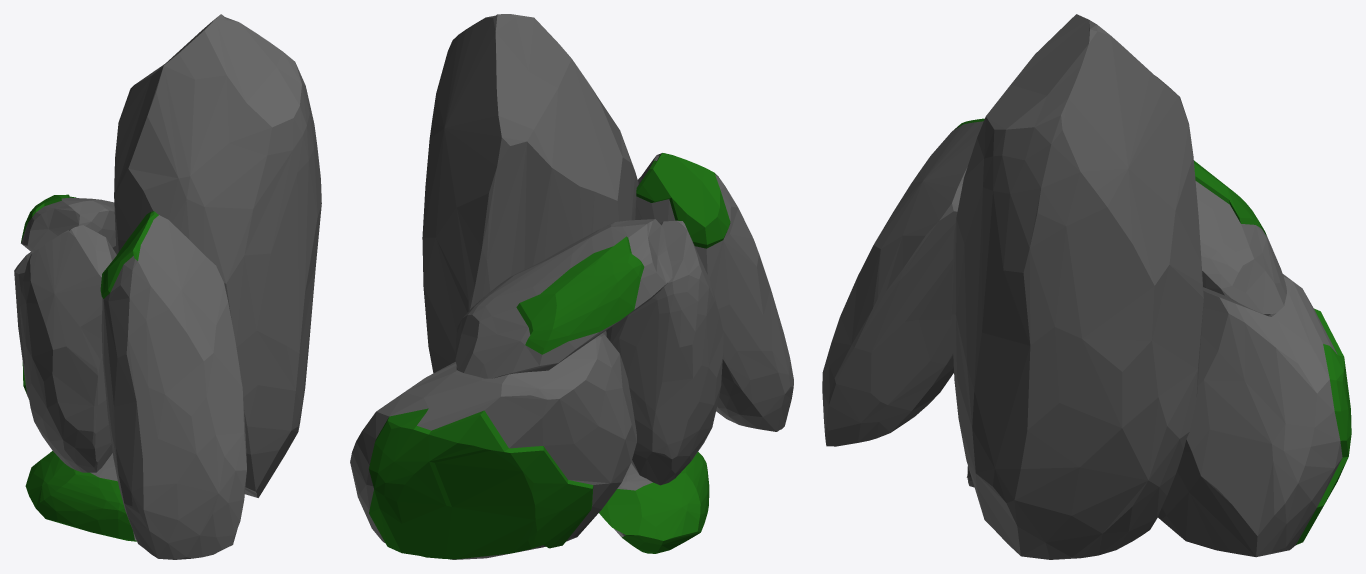
File: byliga.fbx
3 views of the same model, side by side, from view 1: azimuth 30°, elevation 25°; view 2: azimuth 150°, elevation 25°; view 3: azimuth 270°, elevation 25° (orthographic). The views are drawn at different scales.
Visible parts, largest first — view 1: Cube.001, Cube.006, Cube.004, Cube.002, Cube.009, Cube.003, Cube.007; view 2: Cube.001, Cube, Cube.007, Cube.004, Cube.006, Cube.009, Cube.005, Cube.002, Cube.003; view 3: Cube.001, Cube.007, Cube.006, Cube.009, Cube, Cube.005.
Boxes of the visible parts, <box> form: Cube.001: <box>114,14,321,497</box>; Cube.006: <box>101,215,246,559</box>; Cube.004: <box>20,225,116,472</box>; Cube.002: <box>25,451,136,541</box>; Cube.009: <box>21,197,116,253</box>; Cube.003: <box>100,211,158,298</box>; Cube.007: <box>14,252,32,398</box>; Cube.001: <box>422,14,638,373</box>; Cube: <box>369,408,593,559</box>; Cube.007: <box>350,333,636,559</box>; Cube.004: <box>606,220,723,485</box>; Cube.006: <box>635,153,793,431</box>; Cube.009: <box>455,219,672,378</box>; Cube.005: <box>516,236,644,354</box>; Cube.002: <box>599,452,709,553</box>; Cube.003: <box>636,153,730,248</box>; Cube.001: <box>951,14,1203,559</box>; Cube.007: <box>1158,274,1342,557</box>; Cube.006: <box>822,121,983,446</box>; Cube.009: <box>1195,181,1286,316</box>; Cube: <box>1296,308,1351,544</box>; Cube.005: <box>1194,160,1267,236</box>.
Size of the model in its own units: 255 by 381 by 426.
